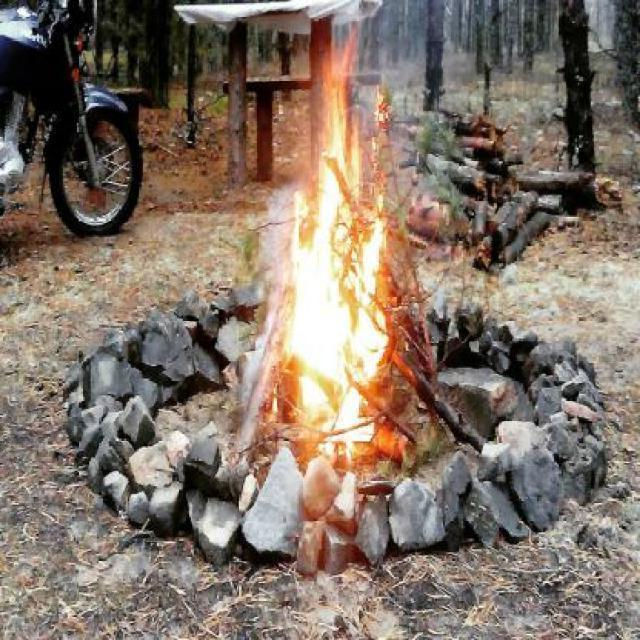Fire: (232, 56, 390, 498)
Smoke: (315, 2, 530, 174)
